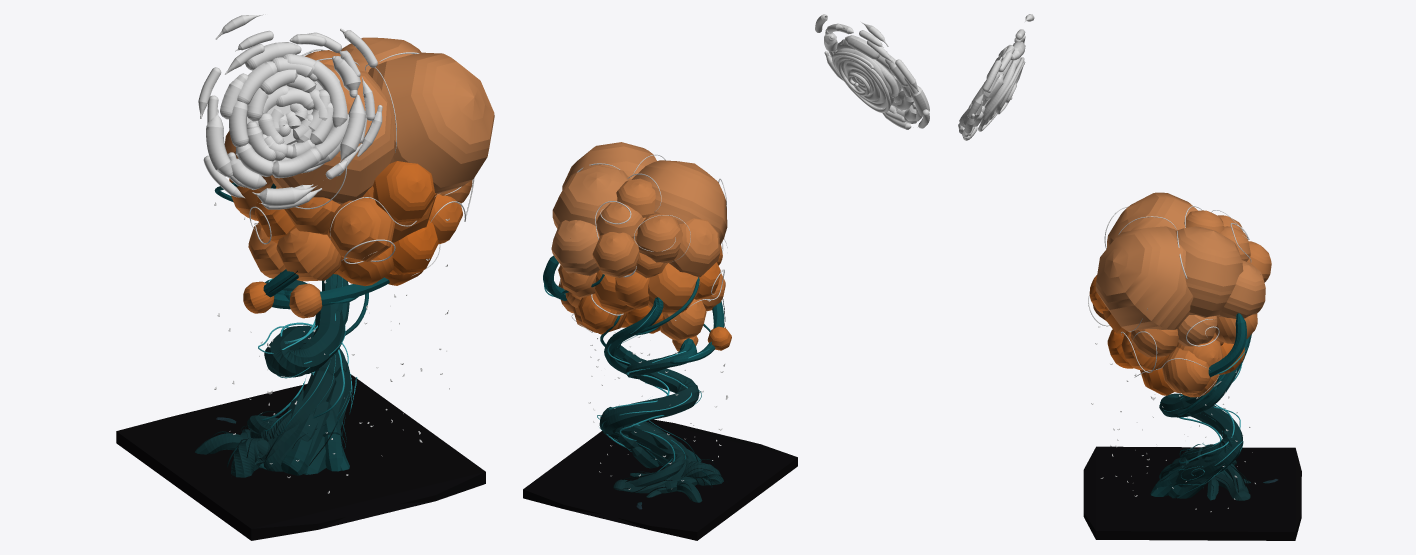
Rendered from maya2sketchfab.fbx.
3 renders of one model, left to right at view 1: azimuth 30°, elevation 25°; view 2: azimuth 150°, elevation 25°; view 3: azimuth 270°, elevation 25°, orthographic. The views are drawn at different scales.
Visible parts, largest first — view 1: section2:MeshFrames (×5); view 2: section2:MeshFrames (×7); view 3: section2:MeshFrames (×6).
Part boxes in pixels (left/top/right/bottom): section2:MeshFrames (×5): left=116, top=14, right=494, bottom=540; section2:MeshFrames (×7): left=523, top=14, right=929, bottom=540; section2:MeshFrames (×6): left=958, top=14, right=1301, bottom=540.
Size of the model in its own units: 4.64 by 6.69 by 6.37.
